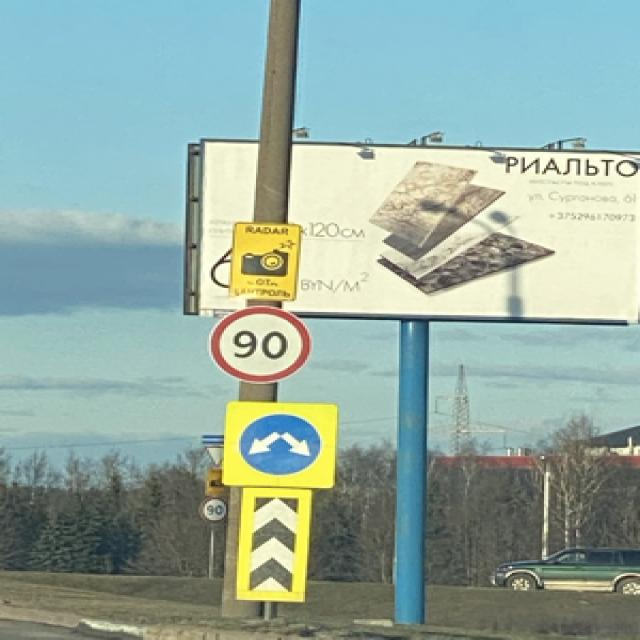speedlimit: (207, 306, 307, 384), (199, 498, 226, 520)
